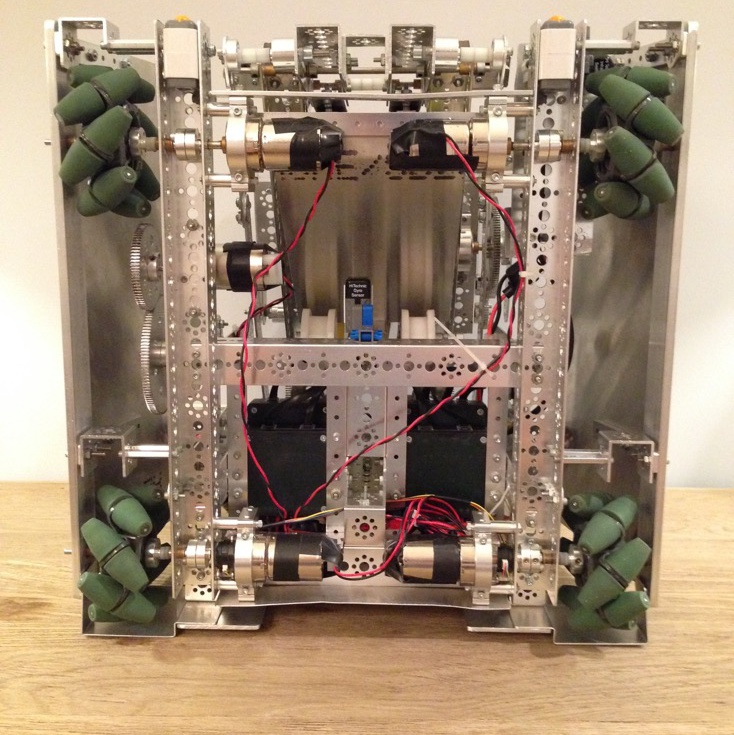robot: (37, 12, 709, 656)
